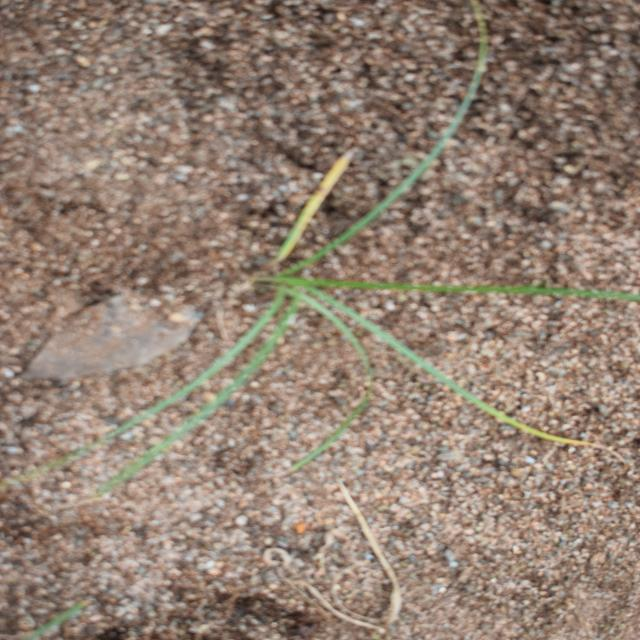sedge: (94, 53, 478, 531)
